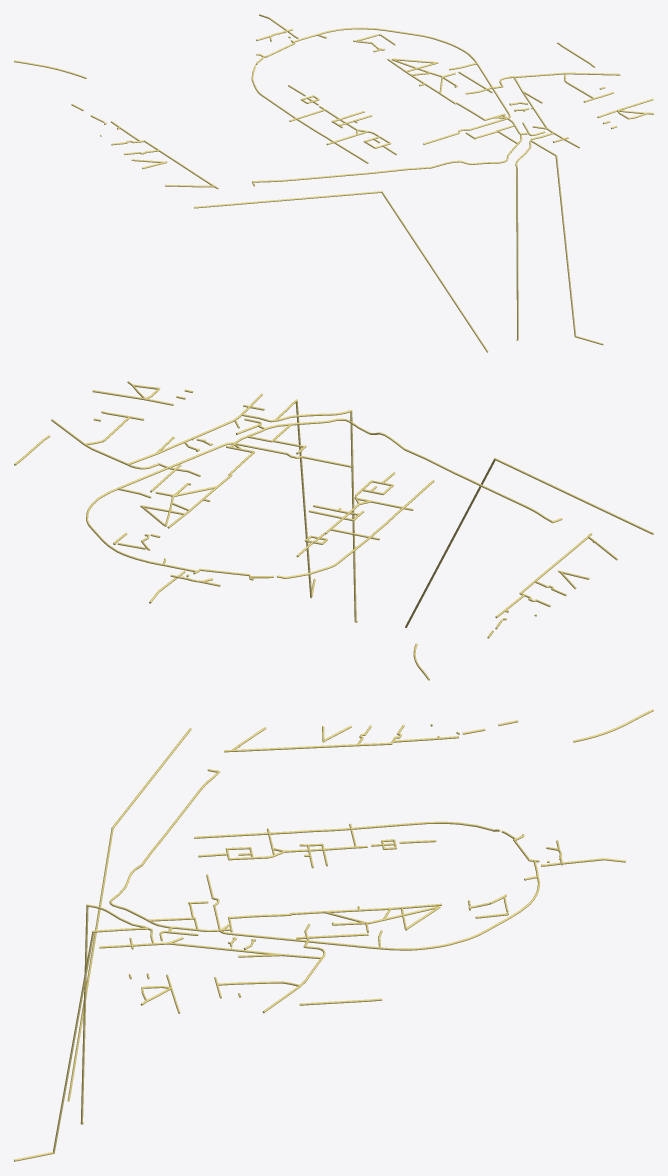
Rendered from chodniki.gltf.
The picture shows the model from 3 angles, top to bottom: view 1: azimuth 30°, elevation 25°; view 2: azimuth 150°, elevation 25°; view 3: azimuth 270°, elevation 25°; orthographic projection. The views are drawn at different scales.
Parts seen in each view (by area): view 1: Drapowane_chodniki; view 2: Drapowane_chodniki; view 3: Drapowane_chodniki.
Part boxes in pixels (x1=…): Drapowane_chodniki: x1=14, y1=14, x2=653, y2=352; Drapowane_chodniki: x1=14, y1=381, x2=653, y2=680; Drapowane_chodniki: x1=14, y1=709, x2=653, y2=1161.
Bounding box in the file's own units: 612 × 239 × 580.
